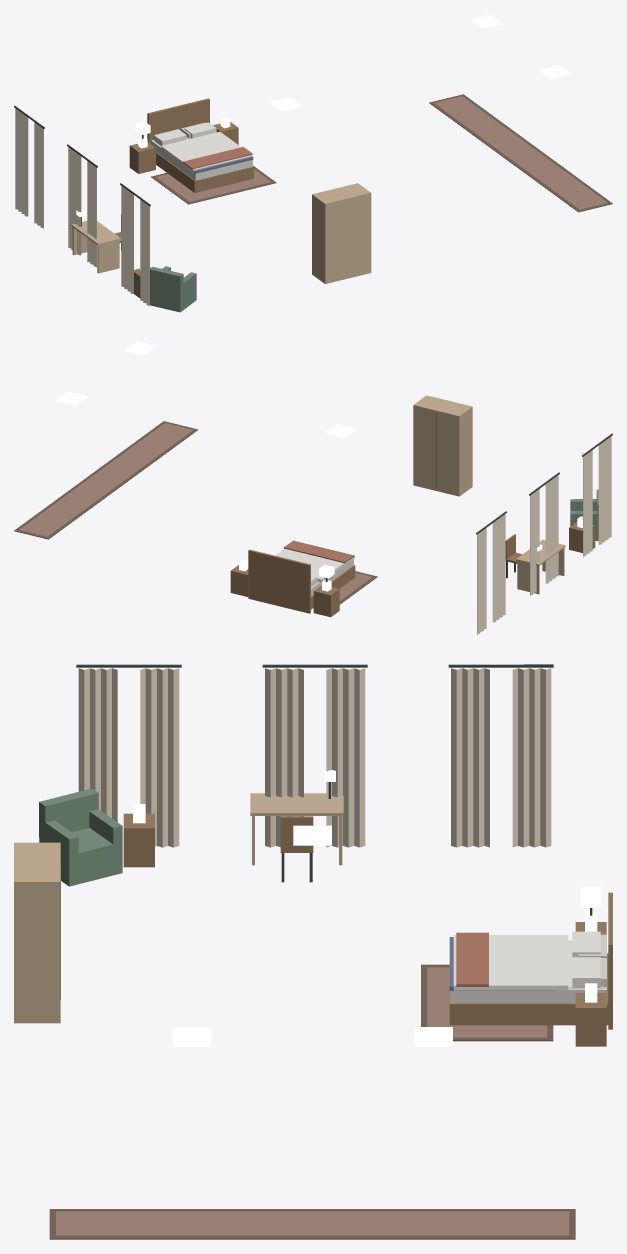
The model's file is fine-s1.glb.
The picture shows the model from 3 angles, top to bottom: view 1: azimuth 30°, elevation 25°; view 2: azimuth 150°, elevation 25°; view 3: azimuth 270°, elevation 25°; orthographic projection. The views are drawn at different scales.
Visible parts, largest first — view 1: soft-s1, dresser.000, bed-frame.000, lounge-chair.000, writing-desk.000, nightstand.000; view 2: soft-s1, dresser.000, bed-frame.000, writing-desk.000, nightstand.000, nightstand.001, lounge-chair.000, side-table.000; view 3: soft-s1, dresser.000, bed-frame.000, lounge-chair.000, writing-desk.000, side-table.000, nightstand.001, cafe-chair.000, ceiling-lamp.004, ceiling-lamp.003, ceiling-lamp.002.
Part boxes in pixels (bbox=[...]): soft-s1: bbox=[14, 94, 612, 306]; dresser.000: bbox=[312, 183, 371, 283]; bed-frame.000: bbox=[147, 98, 253, 192]; lounge-chair.000: bbox=[150, 266, 196, 312]; writing-desk.000: bbox=[71, 209, 120, 273]; nightstand.000: bbox=[129, 136, 155, 173]; soft-s1: bbox=[14, 421, 612, 635]; dresser.000: bbox=[413, 395, 472, 496]; bed-frame.000: bbox=[248, 549, 355, 613]; writing-desk.000: bbox=[516, 539, 565, 594]; nightstand.000: bbox=[313, 579, 339, 617]; nightstand.001: bbox=[230, 559, 248, 596]; lounge-chair.000: bbox=[570, 489, 598, 540]; side-table.000: bbox=[569, 516, 595, 552]; soft-s1: bbox=[49, 664, 603, 1239]; dresser.000: bbox=[14, 842, 60, 1023]; bed-frame.000: bbox=[449, 892, 612, 1029]; lounge-chair.000: bbox=[39, 788, 122, 886]; writing-desk.000: bbox=[250, 769, 343, 865]; side-table.000: bbox=[123, 804, 154, 867]; nightstand.001: bbox=[575, 983, 606, 1046]; cafe-chair.000: bbox=[280, 816, 313, 882]; ceiling-lamp.004: bbox=[293, 825, 331, 845]; ceiling-lamp.003: bbox=[172, 1027, 211, 1046]; ceiling-lamp.002: bbox=[414, 1027, 452, 1046].
Size of the model in its own units: 11.96 by 2.69 by 7.7.
